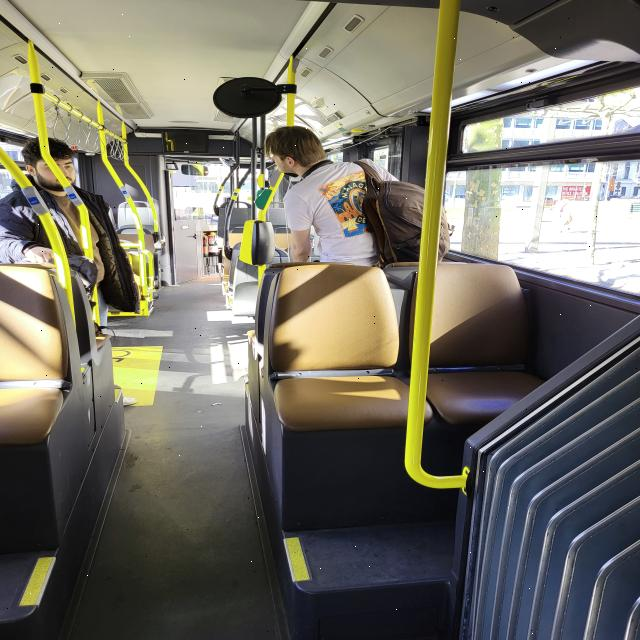empty-seat-frontal: (264, 258, 432, 442), (422, 255, 580, 425), (0, 263, 69, 443)
